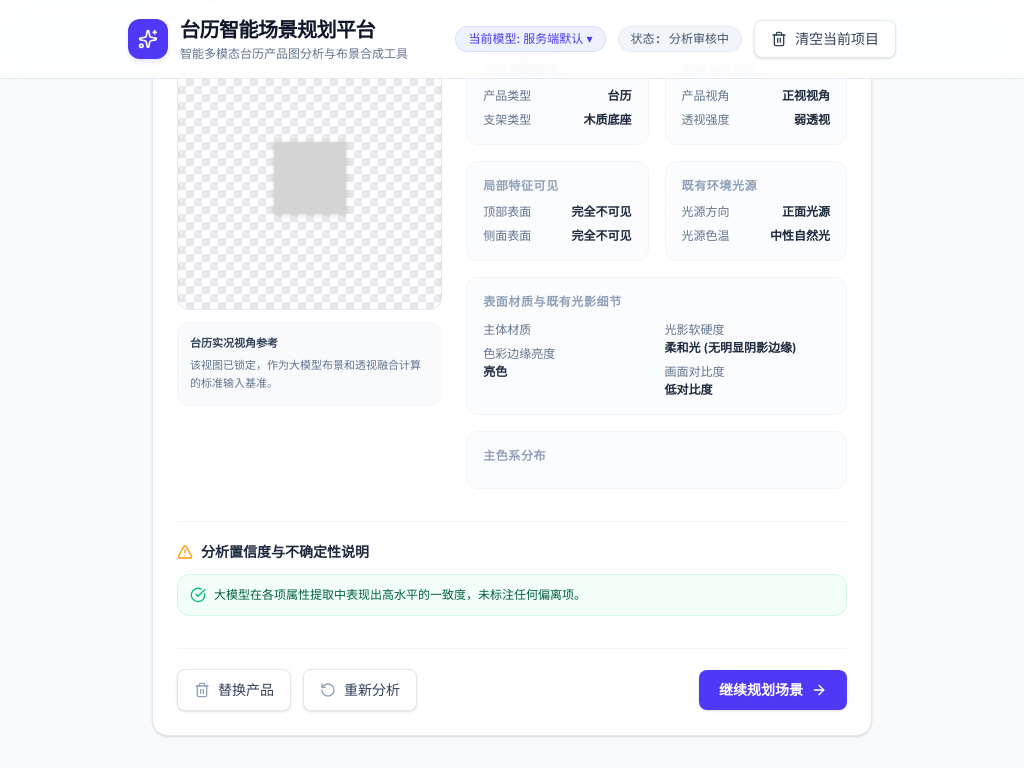
Scenario: Integration Tests › 503 and 504 and TIMEOUT show different messages than 429
(page scrolled)
What coordinates should you click on to do the following:
click the button "继续规划场景"
I would click on:
 (773, 690)
Its box is [699, 670, 847, 710].
(page scrolled)
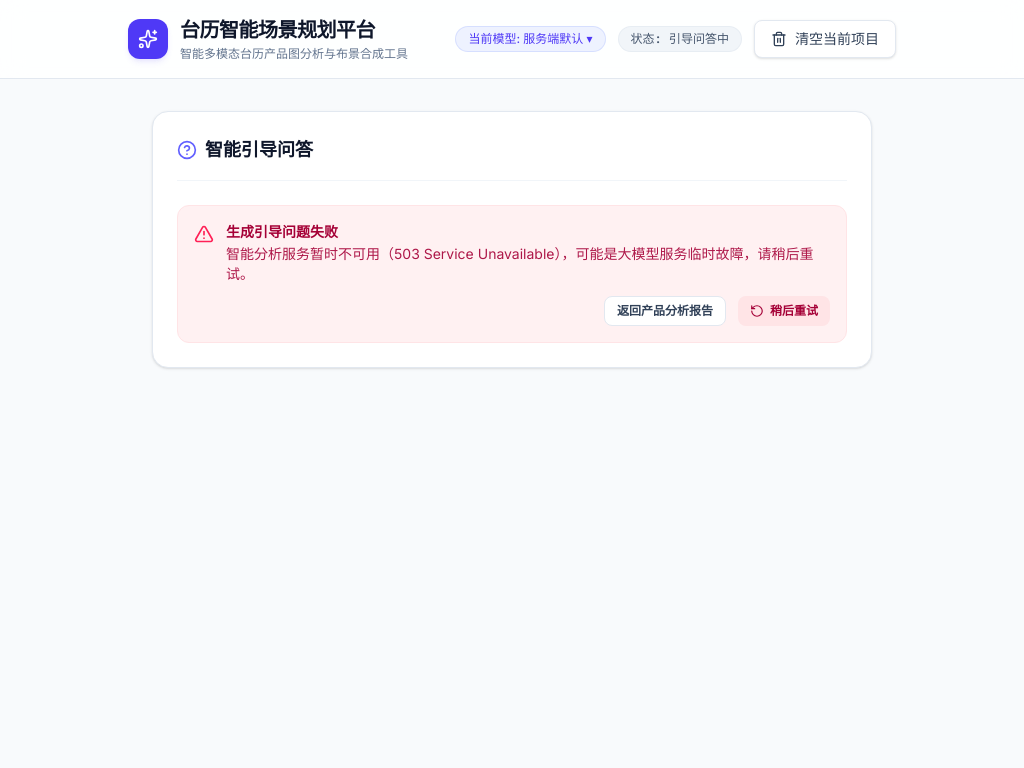
Expected: the text "生成引导问题失败" is shown, [226, 223, 338, 240]
Expected: the text "智能分析服务暂时不可用（503 Service Unavailable），可能是大模型服务临时故障，请稍后重试。" is shown, [226, 244, 830, 284]
